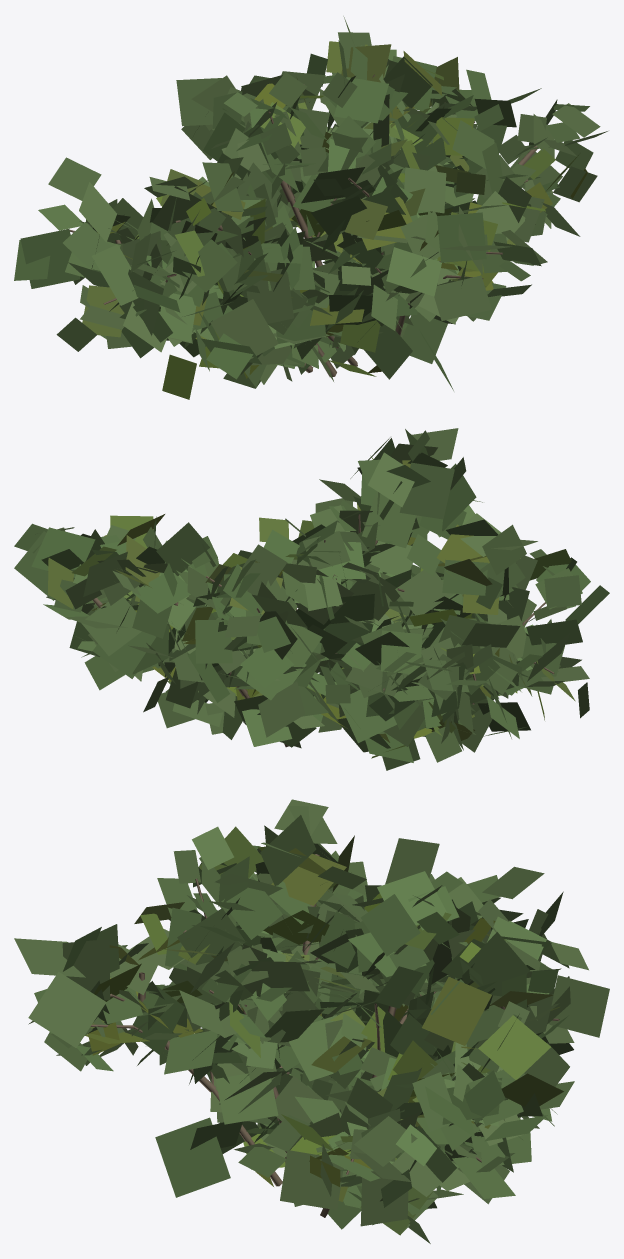
Rendered from vinemound_c.glb.
3 views of the same model, one above another, from view 1: azimuth 30°, elevation 25°; view 2: azimuth 150°, elevation 25°; view 3: azimuth 270°, elevation 25° (orthographic). The views are drawn at different scales.
Visible parts, largest first — view 1: vinemound_c; view 2: vinemound_c; view 3: vinemound_c.
Part boxes in pixels (x1,y1,x2,y2): vinemound_c: (14,16,607,399); vinemound_c: (14,428,609,770); vinemound_c: (14,799,609,1243).
Bounding box in the file's own units: 3.91 × 1.95 × 3.09.
